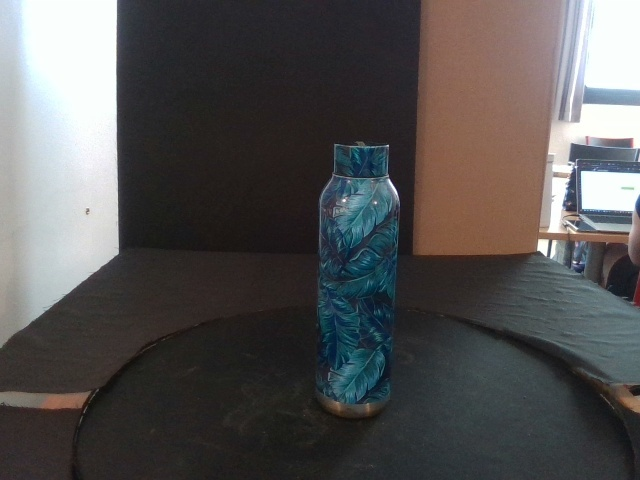bottle: (319, 142, 400, 415)
